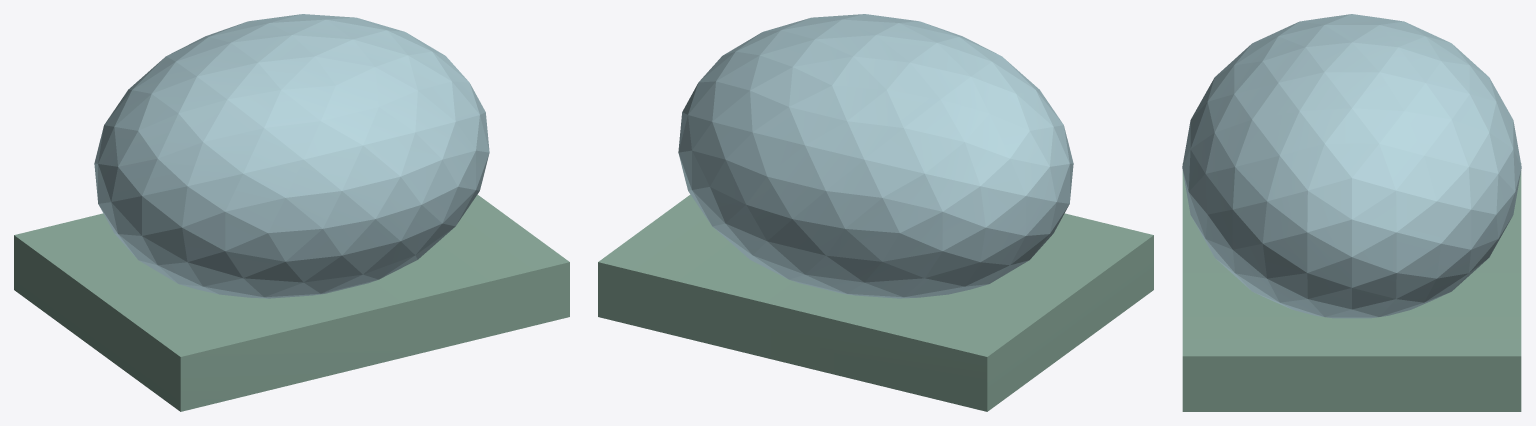
File: observatory-05.glb
3 renders of one model, left to right at view 1: azimuth 30°, elevation 25°; view 2: azimuth 150°, elevation 25°; view 3: azimuth 270°, elevation 25°, orthographic.
Visible parts, largest first — view 1: world; view 2: world; view 3: world.
Boxes of the visible parts, x1=… form: world: x1=14, y1=14, x2=569, y2=411; world: x1=598, y1=14, x2=1153, y2=411; world: x1=1182, y1=14, x2=1521, y2=411.
Size of the model in its own units: 1.48 by 0.9779 by 1.1.
